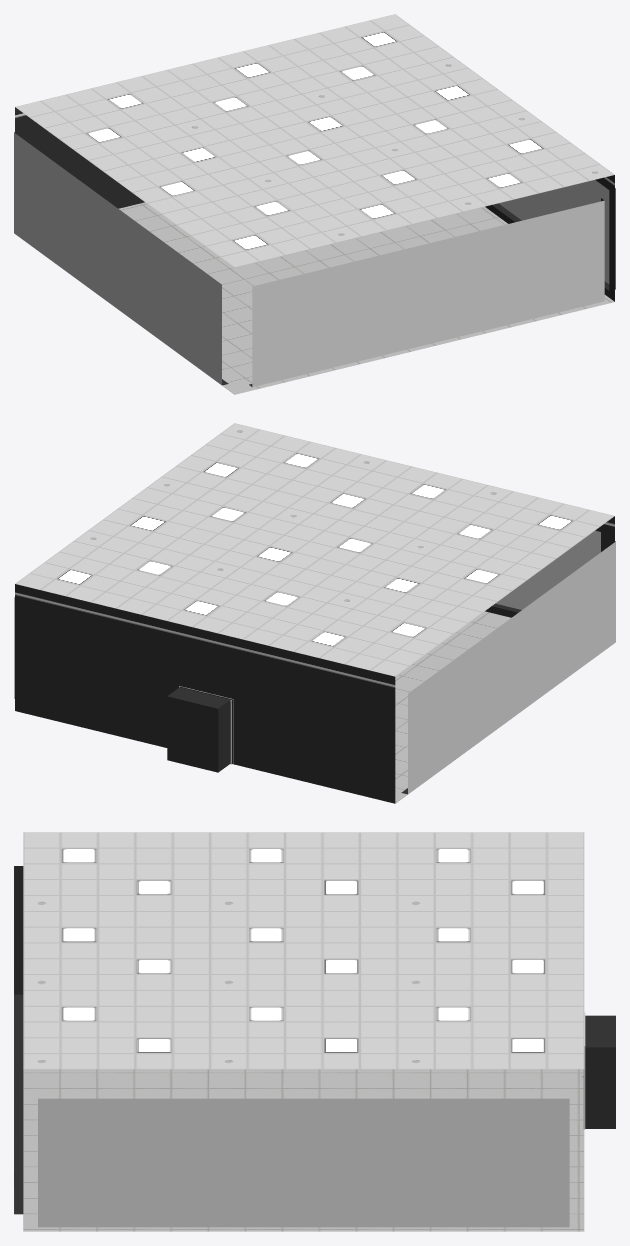
The model's file is VR_Room.fbx.
3 renders of one model, top to bottom at view 1: azimuth 30°, elevation 25°; view 2: azimuth 150°, elevation 25°; view 3: azimuth 270°, elevation 25°, orthographic. The views are drawn at different scales.
Visible parts, largest first — view 1: Roof, front_wall, Right_wall, Ground, Left_wall, Entrance_wall; view 2: Roof, Entrance_wall, Right_wall, Ground, front_wall; view 3: Roof, Left_wall, Ground, Entrance_wall, front_wall.
Part boxes in pixels (box(x1,y1,x2,y2)): Roof: box(15, 14, 614, 267); front_wall: box(249, 198, 604, 387); Right_wall: box(14, 131, 228, 385); Ground: box(21, 202, 614, 394); Left_wall: box(485, 175, 615, 301); Entrance_wall: box(15, 107, 144, 208); Roof: box(15, 423, 614, 676); Entrance_wall: box(15, 584, 395, 803); Right_wall: box(401, 540, 615, 794); Ground: box(395, 611, 608, 803); front_wall: box(485, 516, 614, 617); Roof: box(23, 832, 584, 1069); Left_wall: box(38, 1098, 569, 1227); Ground: box(23, 1069, 584, 1231); Entrance_wall: box(585, 1015, 615, 1128); front_wall: box(14, 866, 23, 1214).
Bounding box in the file's own units: 1406 × 419 × 1356.
